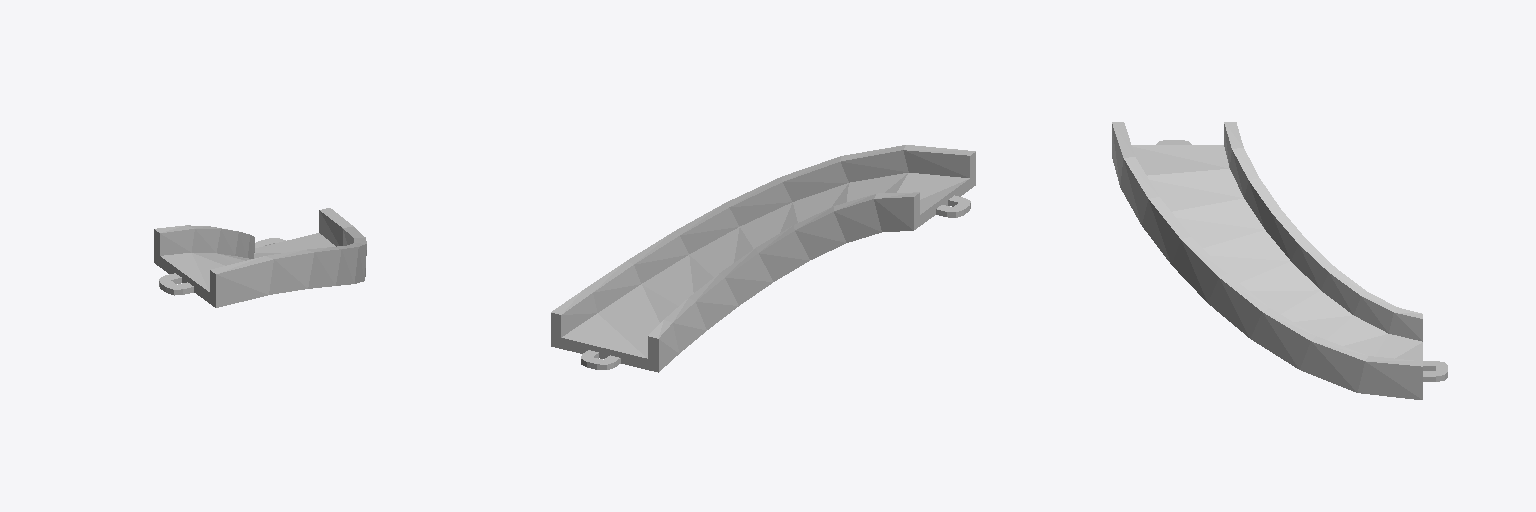
File: track-striped-narrow-corner-small-ramp.obj
The picture shows the model from 3 angles: view 1: azimuth 30°, elevation 25°; view 2: azimuth 150°, elevation 25°; view 3: azimuth 270°, elevation 25°; orthographic projection.
Parts seen in each view (by area): view 1: track-striped-narrow-corner-small-ramp; view 2: track-striped-narrow-corner-small-ramp; view 3: track-striped-narrow-corner-small-ramp.
Boxes of the visible parts, x1=… form: track-striped-narrow-corner-small-ramp: x1=154, y1=208, x2=366, y2=307; track-striped-narrow-corner-small-ramp: x1=551, y1=145, x2=975, y2=372; track-striped-narrow-corner-small-ramp: x1=1112, y1=122, x2=1447, y2=399.
Bounding box in the file's own units: 2.7 × 1.3 × 2.7.